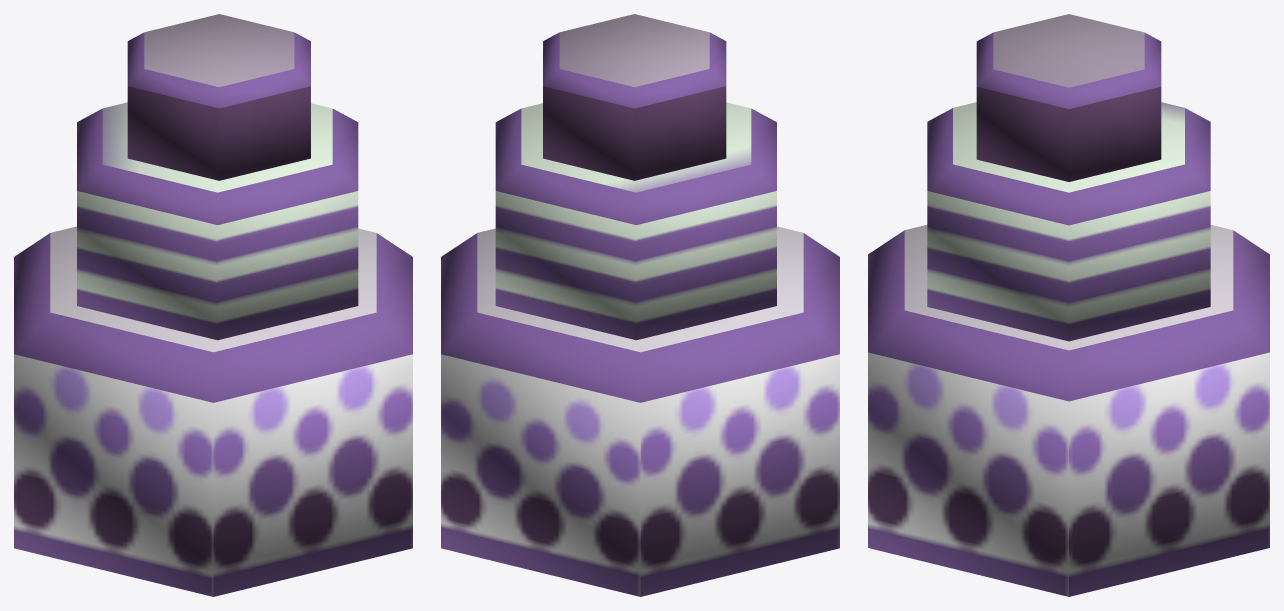
File: Wedding_Cake_E.FBX
3 views of the same model, side by side, from view 1: azimuth 30°, elevation 25°; view 2: azimuth 150°, elevation 25°; view 3: azimuth 270°, elevation 25° (orthographic).
Parts seen in each view (by area): view 1: Wedding_Cake_A; view 2: Wedding_Cake_A; view 3: Wedding_Cake_A.
Boxes of the visible parts, x1,y1,x2,y2 form: Wedding_Cake_A: (14,14,412,596); Wedding_Cake_A: (441,14,839,596); Wedding_Cake_A: (868,14,1269,596).
Size of the model in its own units: 102 by 110 by 88.51.
